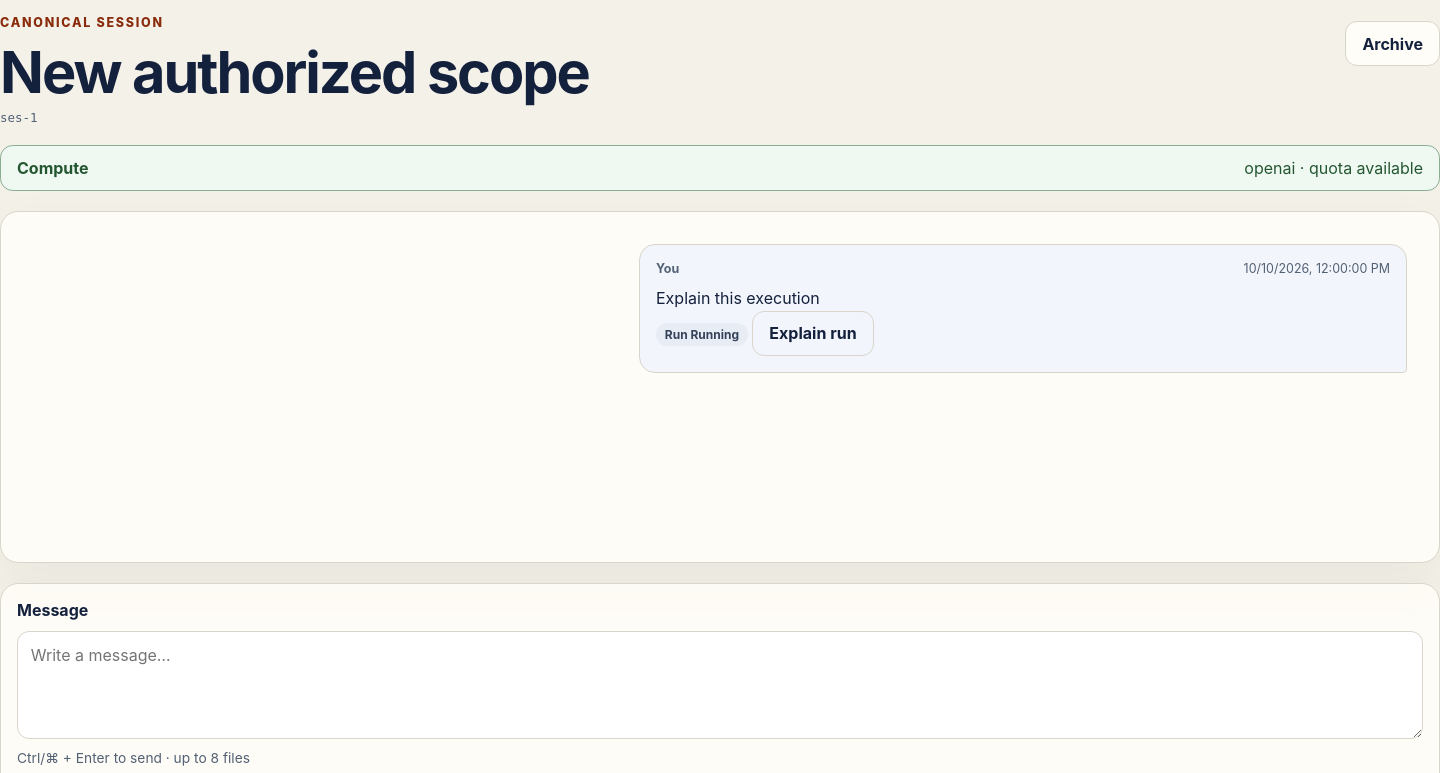
Test case: SessionDetail explanation lifecycle › does not replace new-scope compute with a stale initial read
Expected: the heading "New authorized scope" is shown, x1=0 y1=41 x2=589 y2=103
Type "New scope message" into the text box labelled "Message".
click(720, 685); type("New scope message")  # box x1=17 y1=631 x2=1423 y2=739
(page scrolled)
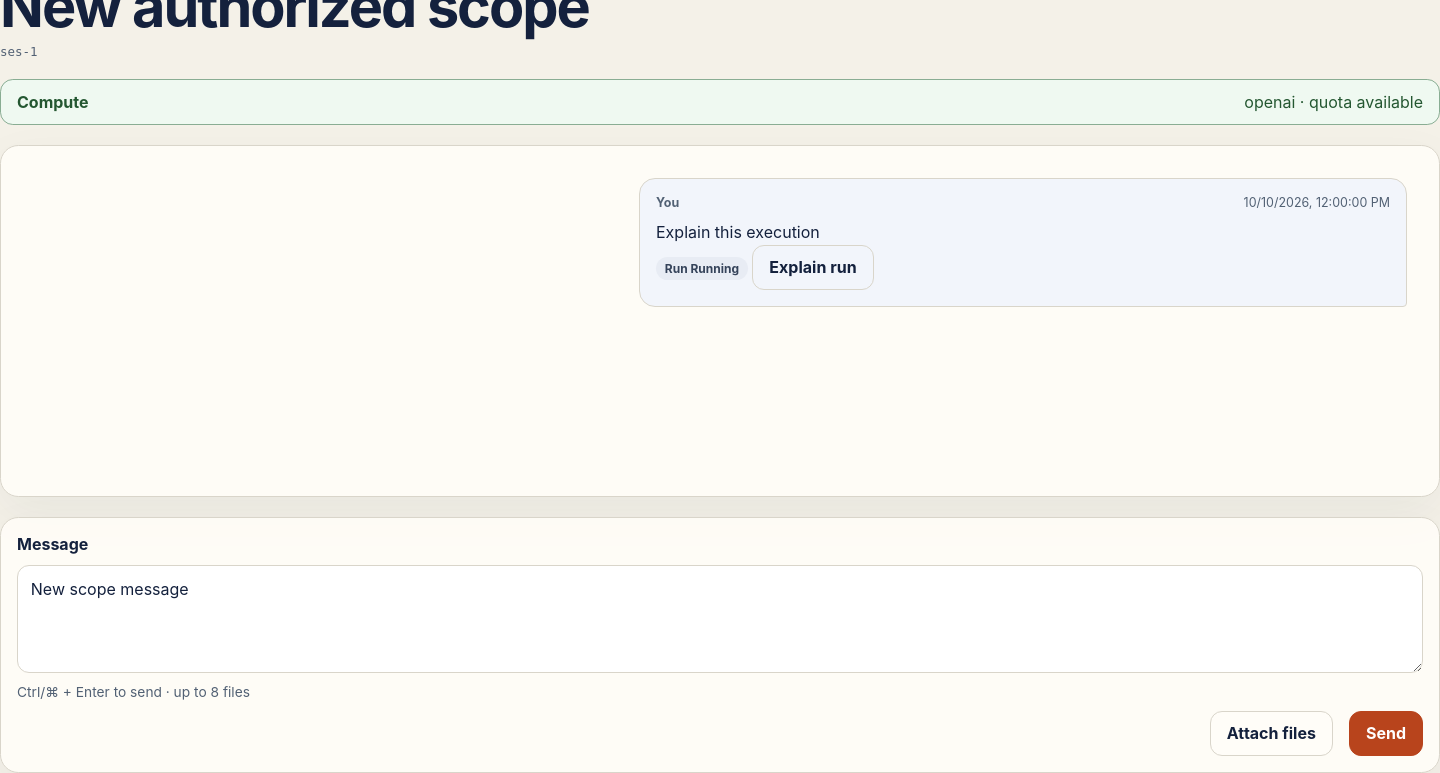
Expected: the button "Send" is enabled, x1=1349 y1=711 x2=1423 y2=756
